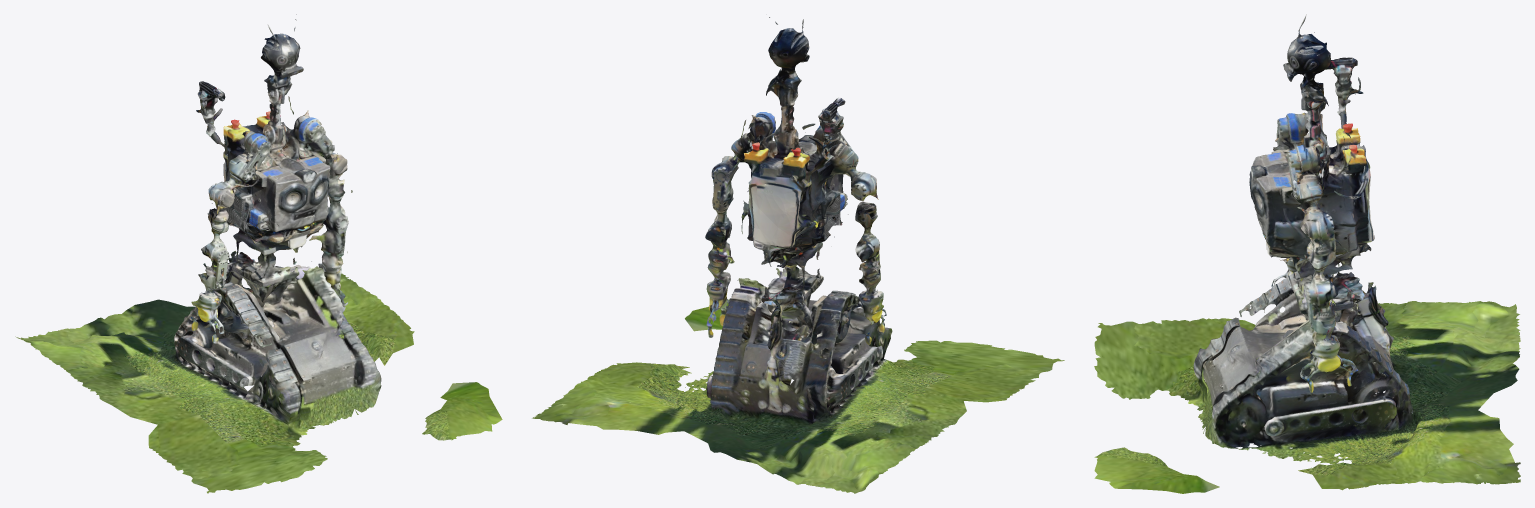
The model's file is rob-upright.glb.
The picture shows the model from 3 angles, left to right: view 1: azimuth 30°, elevation 25°; view 2: azimuth 150°, elevation 25°; view 3: azimuth 270°, elevation 25°; orthographic projection. The views are drawn at different scales.
Visible parts, largest first — view 1: ROB upright; view 2: ROB upright; view 3: ROB upright.
Part boxes in pixels (<box>): ROB upright: <box>15,14,502,493</box>; ROB upright: <box>532,17,1064,493</box>; ROB upright: <box>1094,14,1520,493</box>.
Bounding box in the file's own units: 1.28 × 1.4 × 1.36.
Materials: 1 (1 with a texture image).
